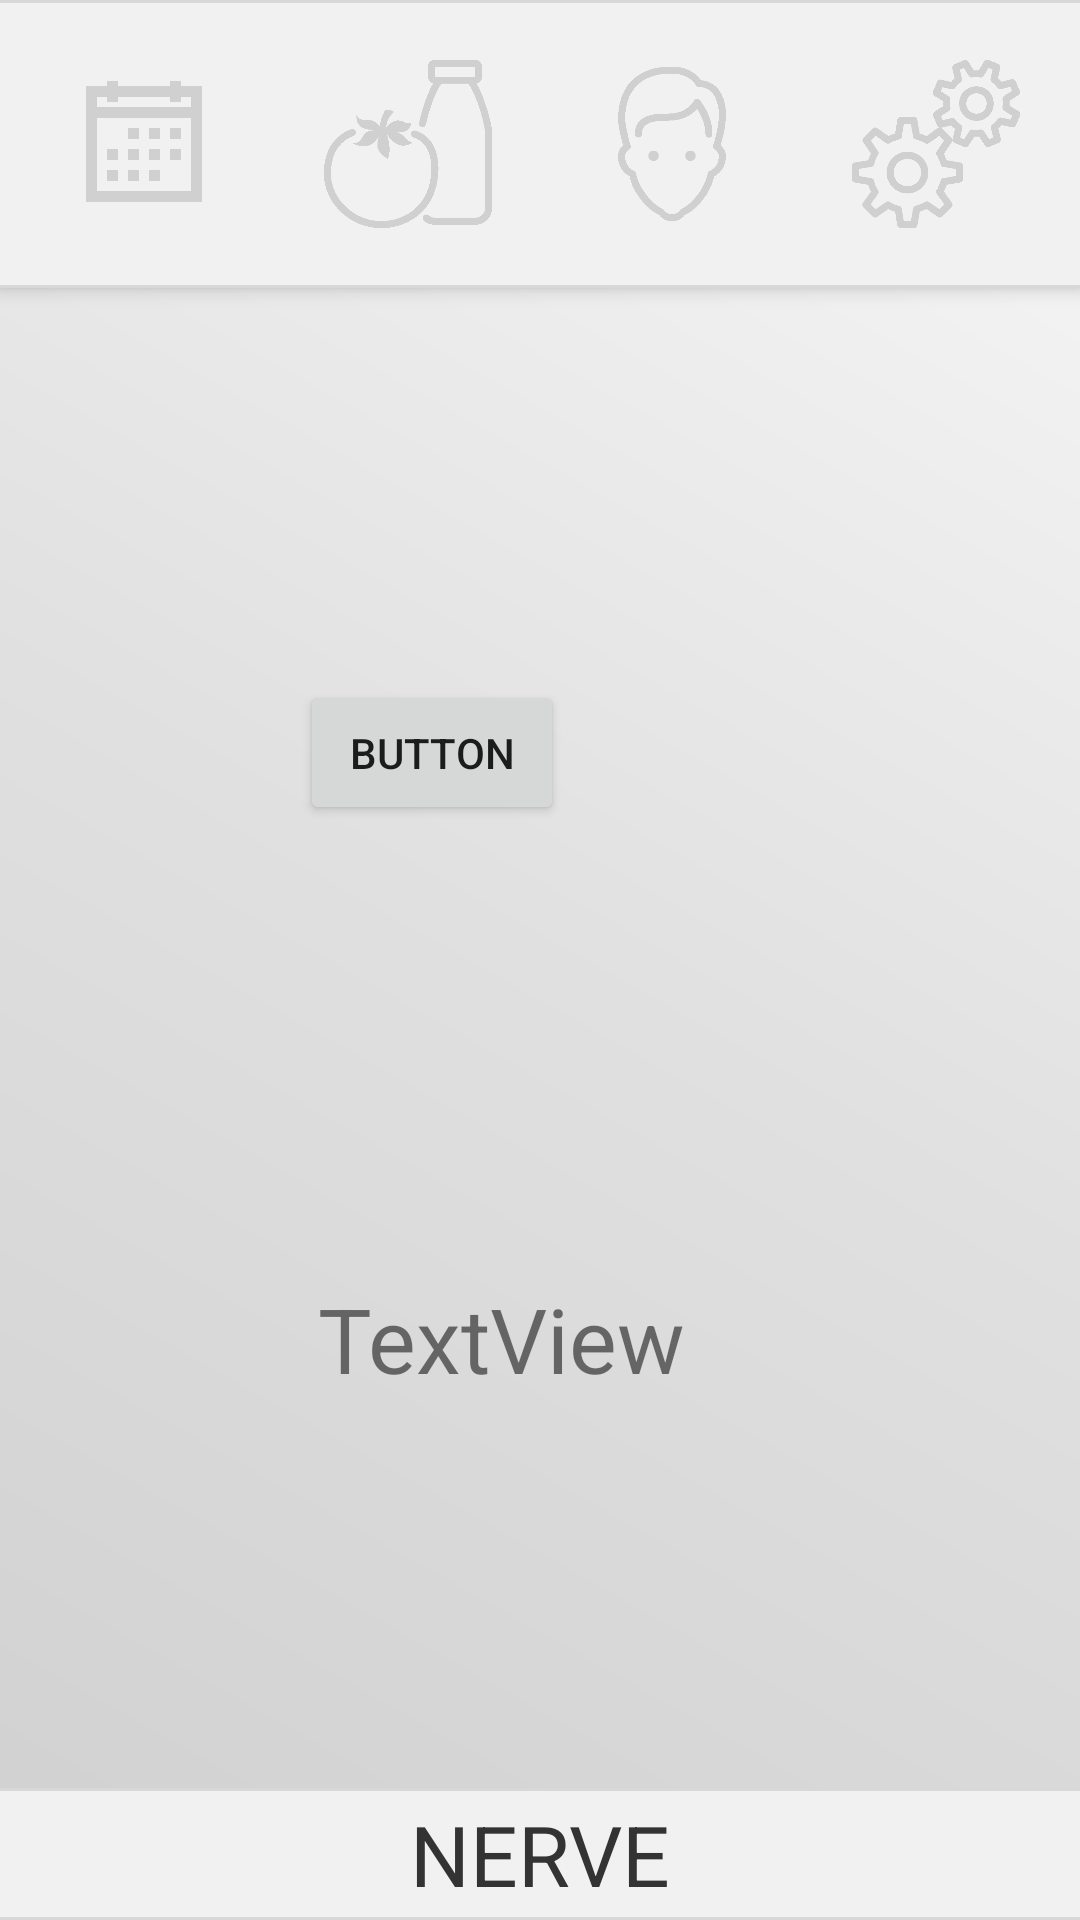

Icon bounding boxes for this 1080w x 1920h phone screenshot, format {"left": x1, "top": y1, "right": x2, "bottom": y2}:
calendar: {"left": 86, "top": 81, "right": 202, "bottom": 202}
food: {"left": 324, "top": 60, "right": 492, "bottom": 228}
profile: {"left": 618, "top": 67, "right": 726, "bottom": 221}
settings: {"left": 852, "top": 60, "right": 1020, "bottom": 228}
